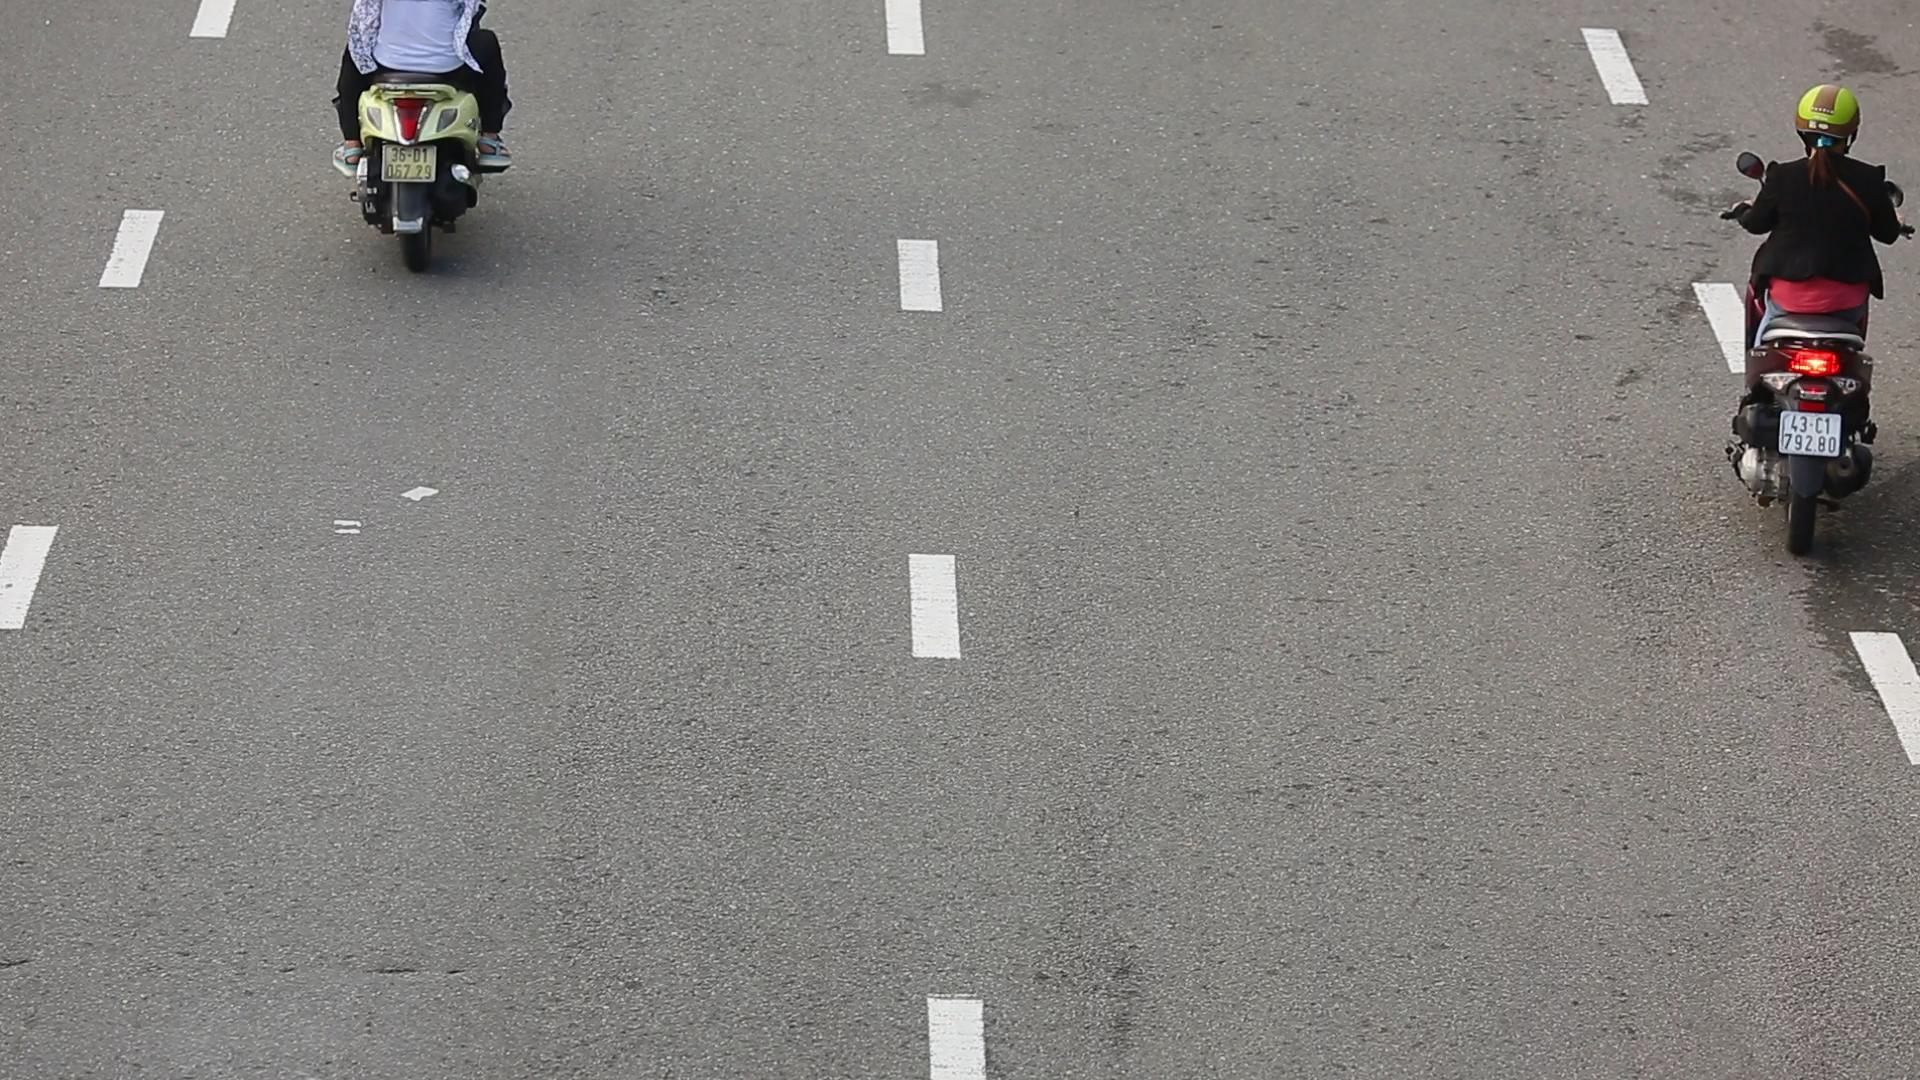motobike: (1725, 76, 1920, 582)
